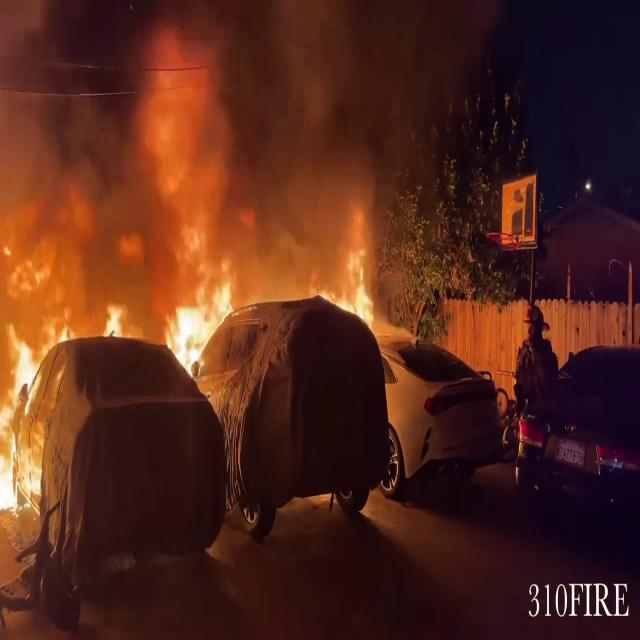Fire: (0, 325, 44, 515), (167, 266, 232, 376), (329, 244, 377, 334)
Smoke: (0, 1, 448, 265)
